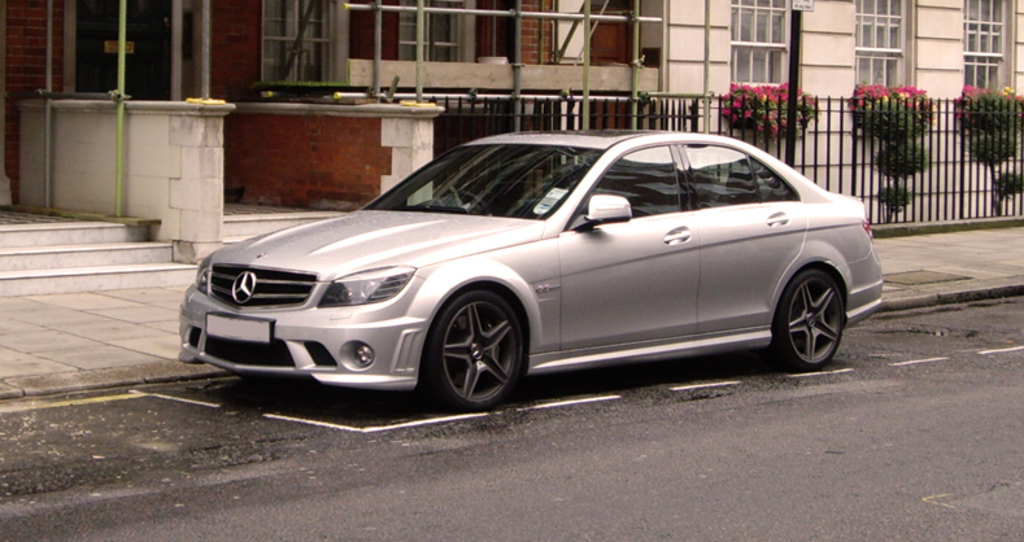cars: (163, 130, 892, 404)
